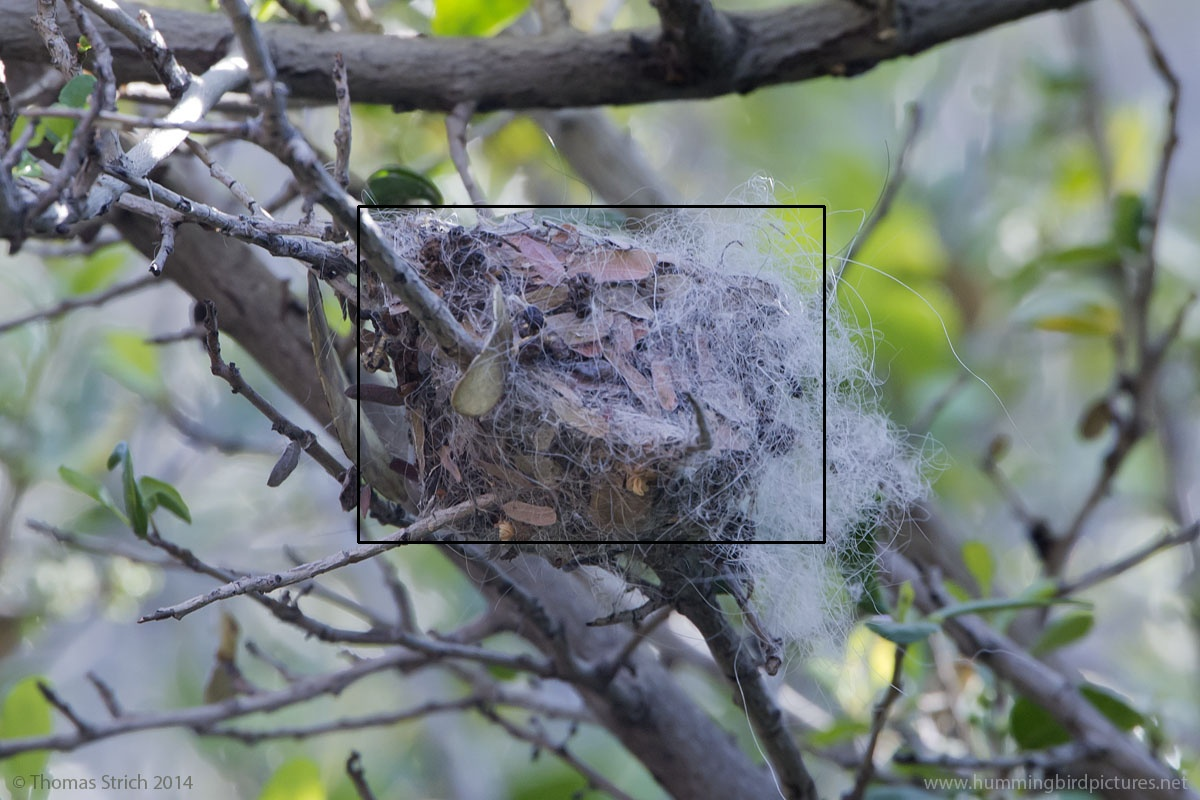bird-nest: (358, 206, 824, 542)
